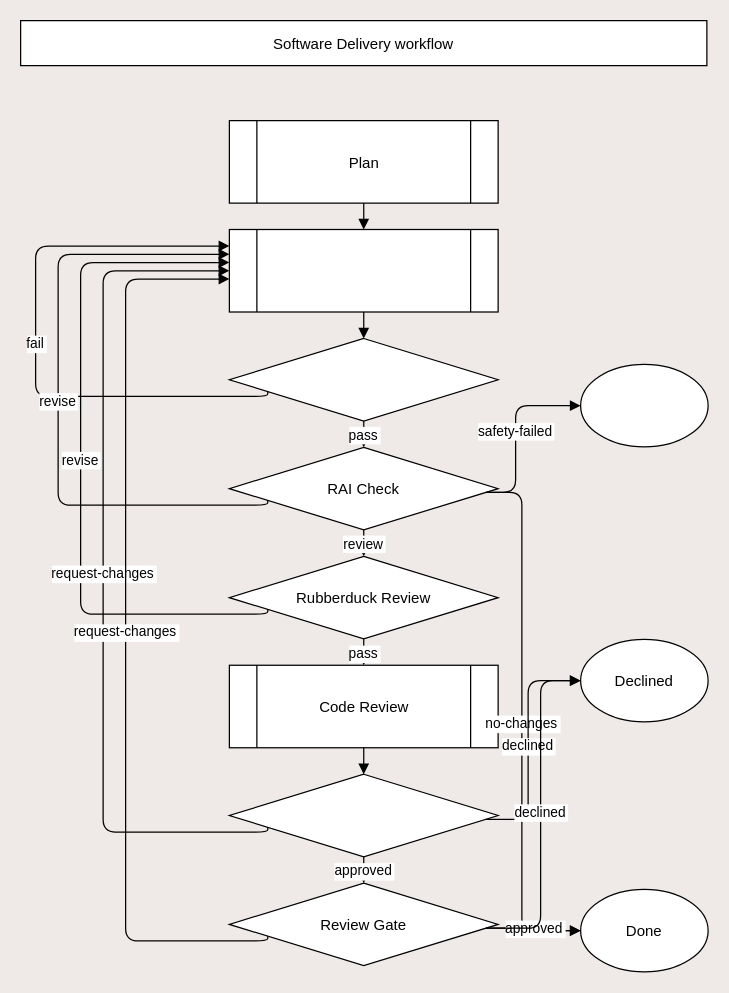
The diagram is 729 pixels wide and 993 high, and some of its shapes have lost their labels. The box of each missing label's shape, as (x1, y1, x2, y2) in pixels:
Build & Test: (228, 773, 498, 857)
Implement: (228, 228, 498, 312)
Safety Failed: (579, 363, 708, 447)
Test Gate: (228, 337, 498, 421)
